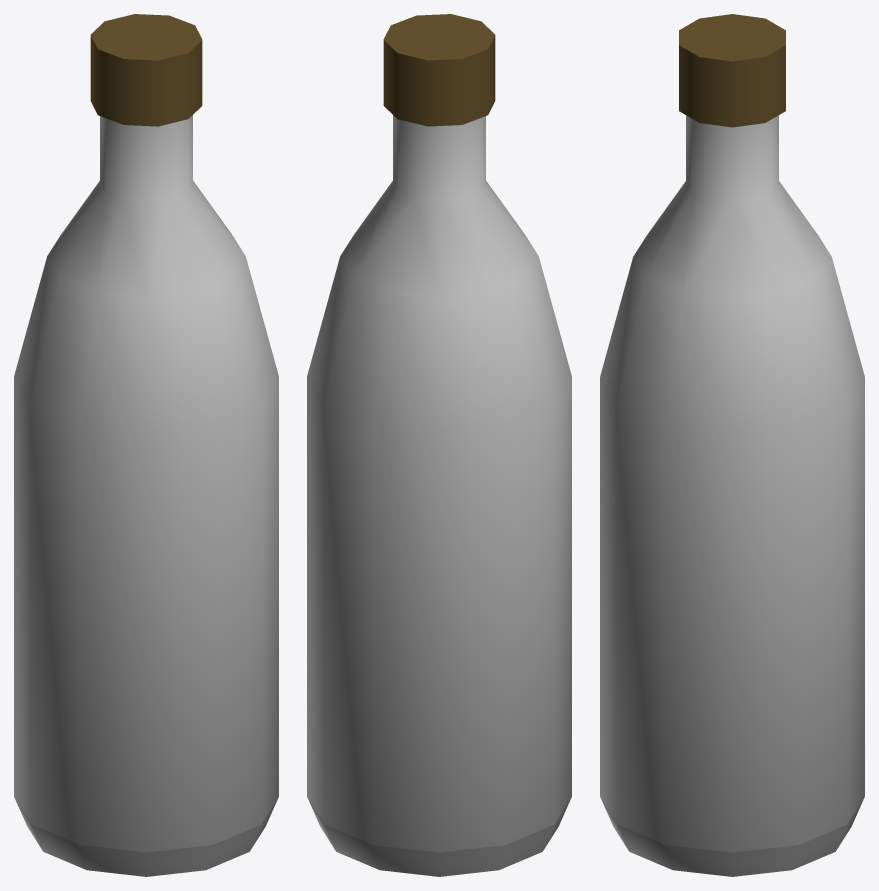
The model's file is agua_turbia.glb.
The picture shows the model from 3 angles, left to right: view 1: azimuth 30°, elevation 25°; view 2: azimuth 150°, elevation 25°; view 3: azimuth 270°, elevation 25°; orthographic projection.
Visible parts, largest first — view 1: agua_turbia; view 2: agua_turbia; view 3: agua_turbia.
Boxes of the visible parts, bbox=[...] form: agua_turbia: bbox=[14, 14, 278, 876]; agua_turbia: bbox=[307, 14, 571, 876]; agua_turbia: bbox=[600, 14, 864, 876].
Size of the model in its own units: 0.08 by 0.263 by 0.08.
